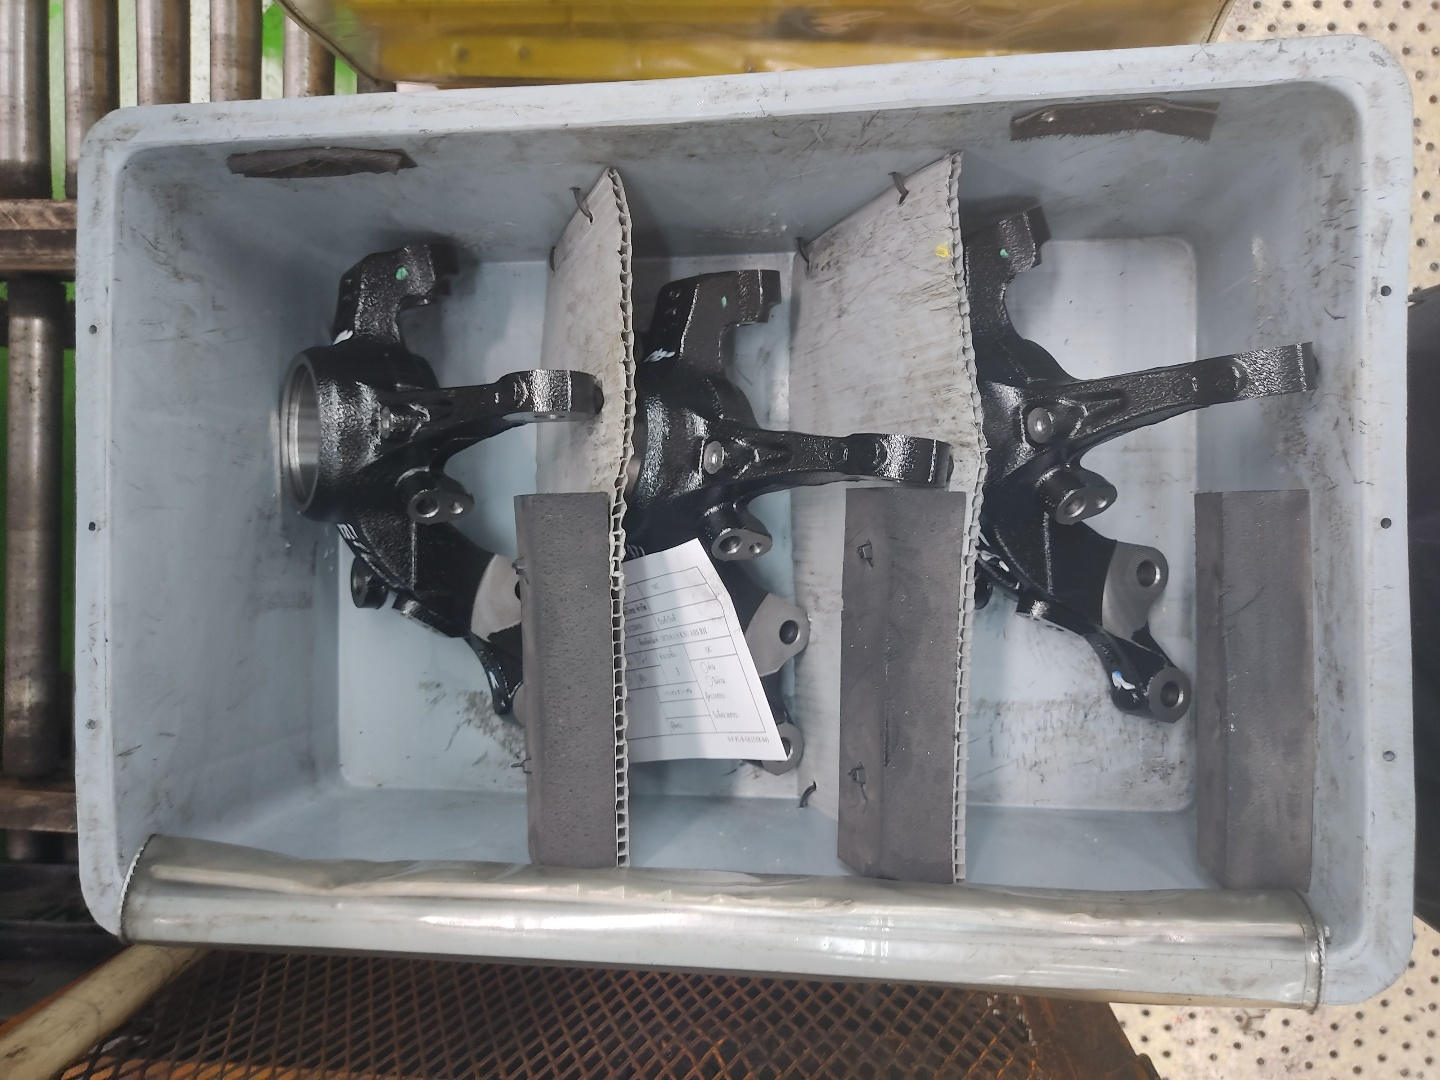abs-rh: (958, 200, 1321, 732), (261, 239, 604, 756), (617, 258, 960, 774)
